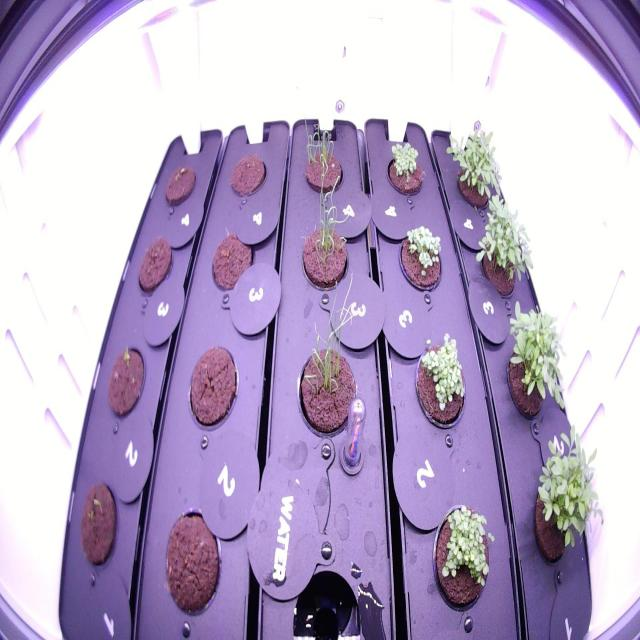germination: (286, 270, 362, 444), (430, 496, 499, 618), (290, 166, 352, 298), (409, 328, 471, 437), (293, 110, 349, 199), (396, 222, 448, 297), (383, 140, 429, 200)
pod: (159, 498, 228, 626), (183, 336, 242, 440), (75, 475, 122, 580), (102, 338, 150, 425), (206, 223, 260, 296), (131, 228, 176, 307), (224, 149, 270, 200), (160, 159, 200, 214)
